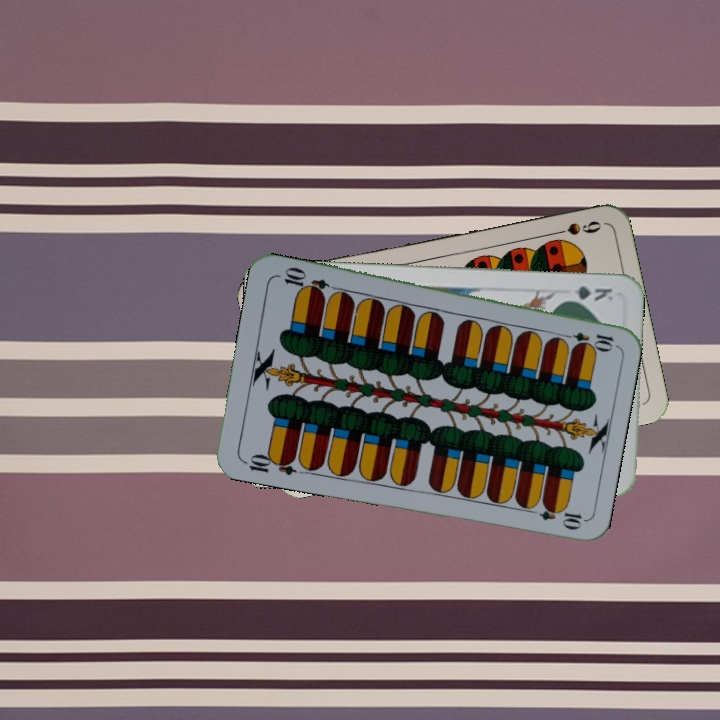E10: (239, 449, 298, 478), (557, 327, 616, 351)
GK: (558, 281, 616, 304)
S9: (545, 216, 604, 239)
